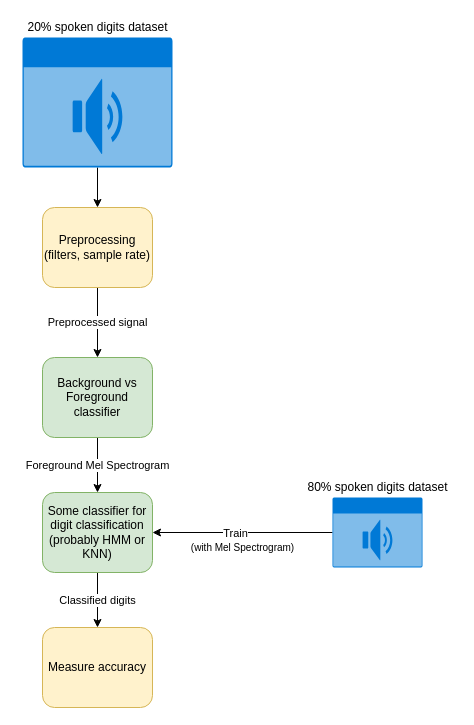
Image size: 474x725. Some labels were removed from this diagram. The box of each missing label's shape, as (x1, y1, x2, y2) in pixels:
Spoken digits: (332, 497, 422, 567)
Spoken digits + space + background noise: (22, 37, 172, 167)
